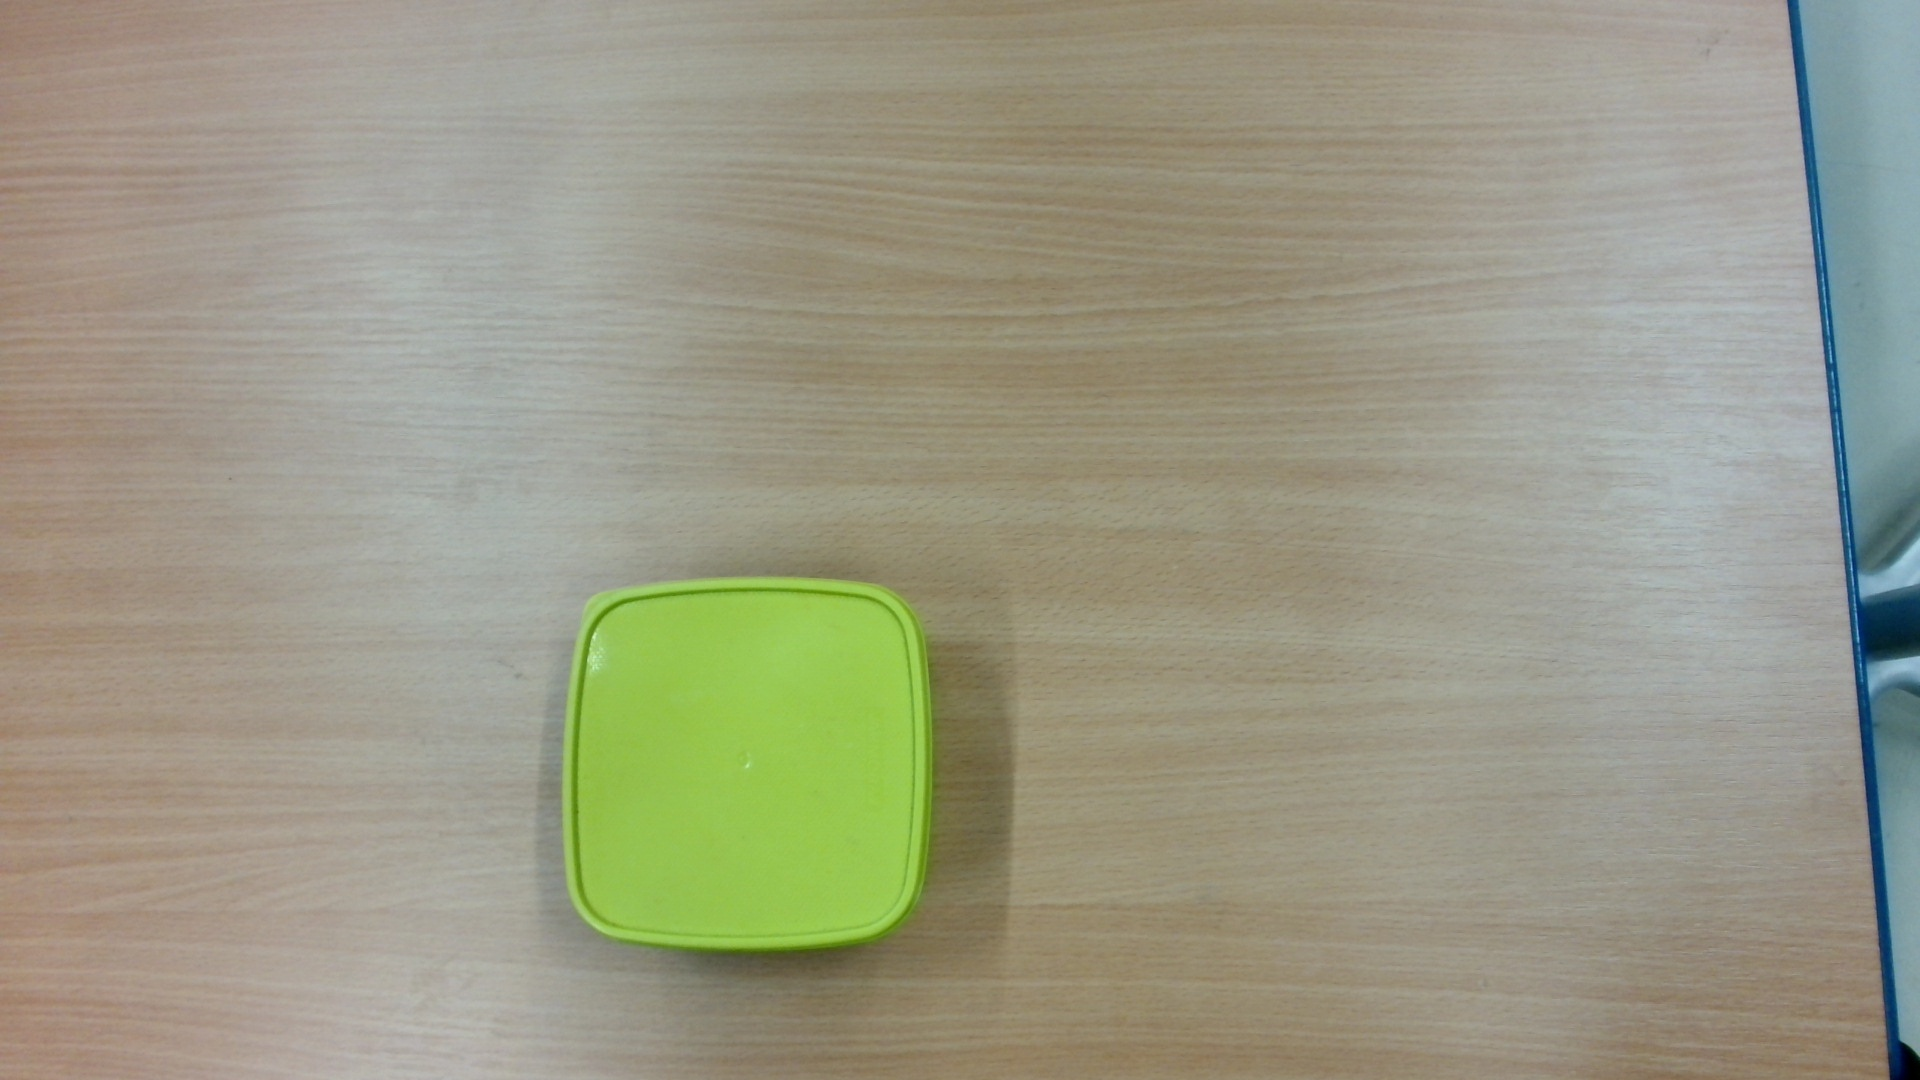Box: (549, 568, 943, 973)
